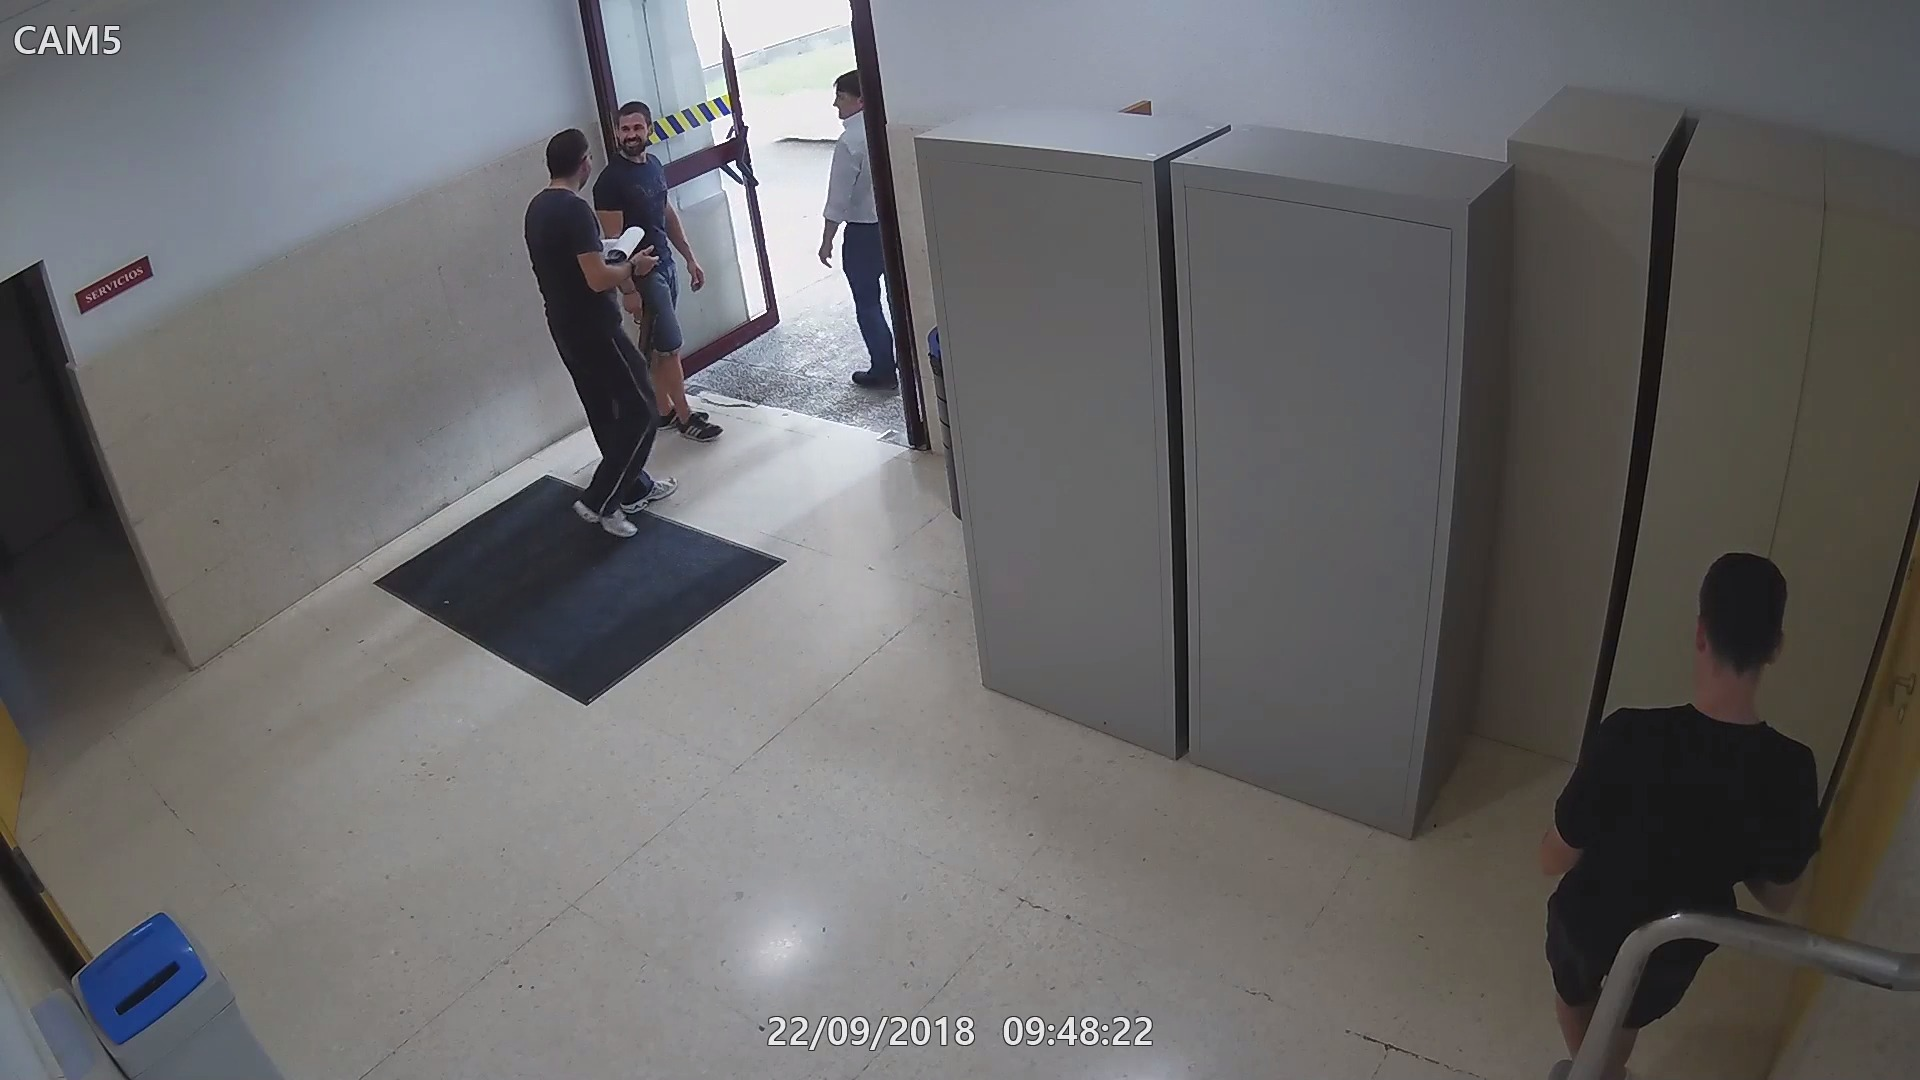Short_rifle: (622, 289, 661, 360)
